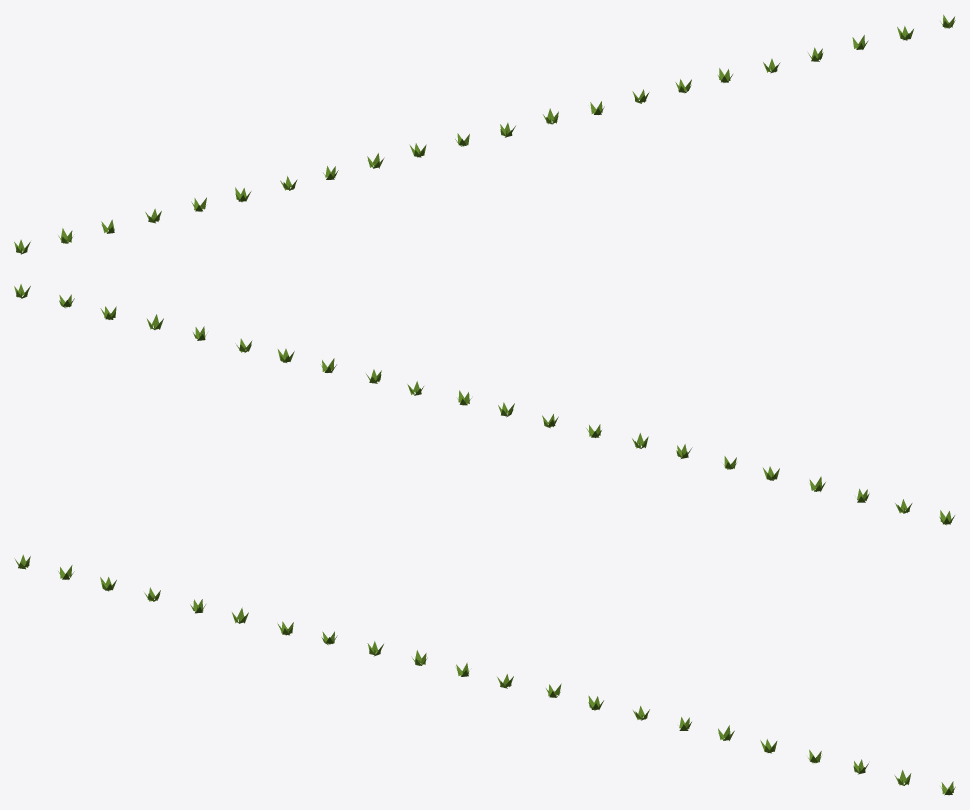
The model's file is farm_pumpkin_plant.dae.
3 views of the same model, one above another, from view 1: azimuth 30°, elevation 25°; view 2: azimuth 150°, elevation 25°; view 3: azimuth 330°, elevation 25° (orthographic).
Parts seen in each view (by area): view 1: farm_pumpkin_plant_node; view 2: farm_pumpkin_plant_node; view 3: farm_pumpkin_plant_node.
Boxes of the visible parts, bbox=[...] form: farm_pumpkin_plant_node: bbox=[14, 14, 955, 254]; farm_pumpkin_plant_node: bbox=[14, 284, 954, 525]; farm_pumpkin_plant_node: bbox=[14, 554, 955, 795].
Size of the model in its own units: 19.18 by 0.4086 by 0.2336.
